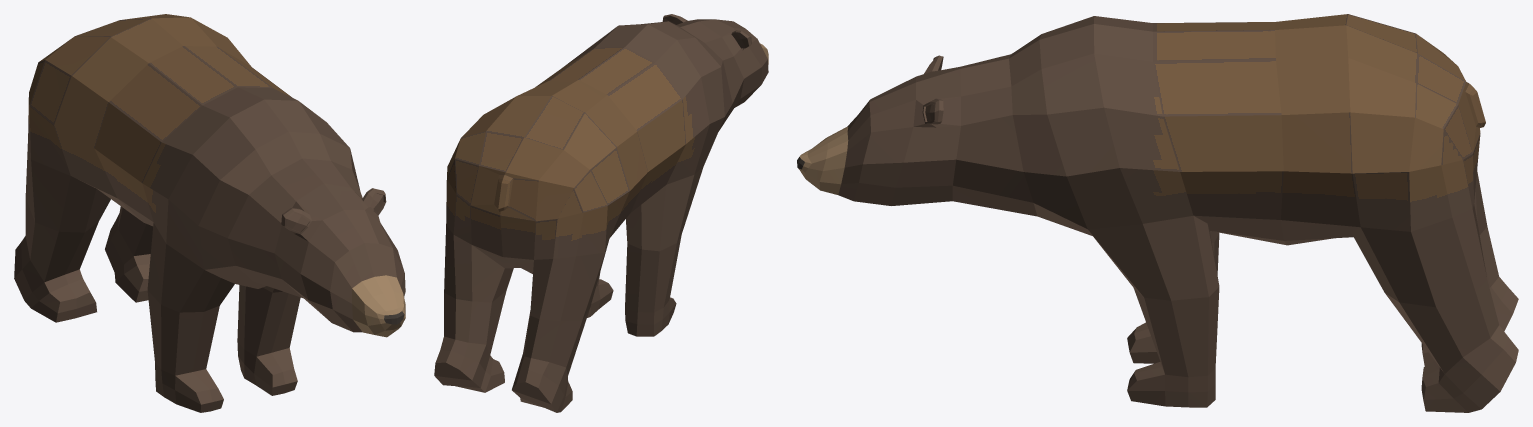
File: bear-heavy-shoulder.glb
3 views of the same model, side by side, from view 1: azimuth 30°, elevation 25°; view 2: azimuth 150°, elevation 25°; view 3: azimuth 270°, elevation 25° (orthographic). The views are drawn at different scales.
Parts seen in each view (by area): view 1: bear-heavy-shoulder runtime mesh; view 2: bear-heavy-shoulder runtime mesh; view 3: bear-heavy-shoulder runtime mesh.
Part boxes in pixels (box(x1,y1,x2,y2)): bear-heavy-shoulder runtime mesh: box(14, 14, 405, 412); bear-heavy-shoulder runtime mesh: box(434, 14, 768, 412); bear-heavy-shoulder runtime mesh: box(797, 14, 1518, 412).
Bounding box in the file's own units: 0.7822 × 1.25 × 2.3.
Materials: 1 (1 with a texture image).
